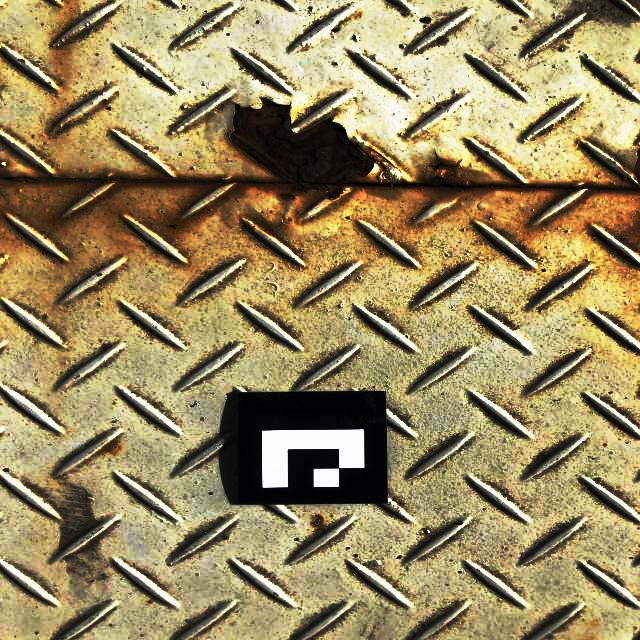Corrosion: (226, 94, 380, 204), (407, 160, 507, 195)
